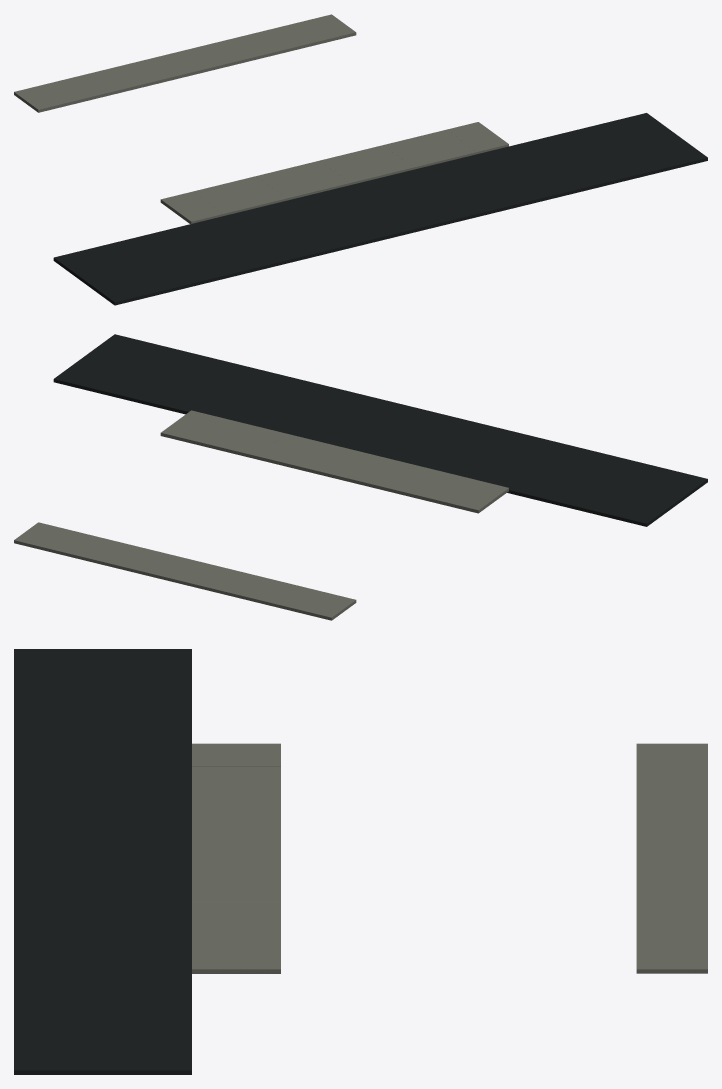
The model's file is site.glb.
3 renders of one model, top to bottom at view 1: azimuth 30°, elevation 25°; view 2: azimuth 150°, elevation 25°; view 3: azimuth 270°, elevation 25°, orthographic. The views are drawn at different scales.
Parts seen in each view (by area): view 1: SITE_street, SITE_sidewalk, SITE_rear_apron; view 2: SITE_street, SITE_sidewalk, SITE_rear_apron; view 3: SITE_street, SITE_sidewalk, SITE_rear_apron.
Part boxes in pixels (<box>): SITE_street: <box>53,113,707,305</box>; SITE_sidewalk: <box>160,122,508,223</box>; SITE_rear_apron: <box>14,14,356,112</box>; SITE_street: <box>53,334,707,526</box>; SITE_sidewalk: <box>160,410,508,513</box>; SITE_rear_apron: <box>14,522,356,620</box>; SITE_street: <box>14,649,191,1074</box>; SITE_sidewalk: <box>192,743,280,973</box>; SITE_rear_apron: <box>636,743,707,973</box>.
Size of the model in its own units: 28 by 0.2514 by 19.5.
3 materials, 3 textured.
